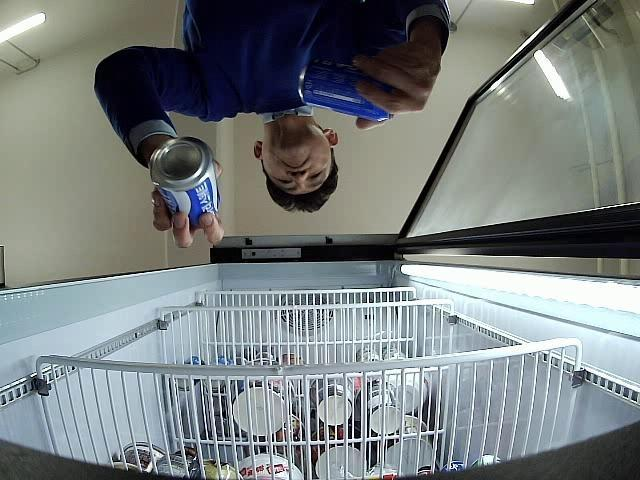13_pocariSweat: (148, 136, 220, 229), (300, 59, 390, 122)
